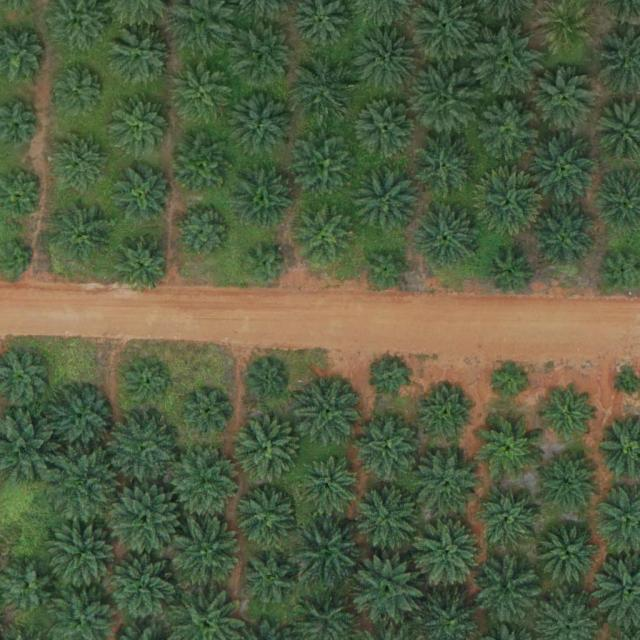Healthy: (47, 448, 125, 527), (106, 551, 184, 630), (169, 515, 247, 594), (288, 509, 366, 588), (351, 552, 429, 631), (411, 517, 489, 595), (50, 522, 121, 593), (529, 134, 600, 204), (474, 26, 544, 97), (107, 411, 177, 482), (110, 483, 180, 554), (170, 448, 241, 518), (475, 172, 545, 242), (409, 67, 479, 137), (414, 139, 477, 202), (355, 29, 418, 92), (294, 136, 357, 199), (294, 206, 357, 269), (235, 26, 298, 89), (232, 169, 295, 232), (109, 98, 172, 161), (235, 489, 298, 552), (477, 561, 540, 624), (537, 451, 600, 514), (536, 70, 598, 133), (534, 208, 596, 271), (477, 102, 540, 164), (417, 206, 479, 269), (356, 99, 418, 162), (356, 168, 418, 231), (293, 57, 355, 120), (232, 93, 294, 156), (174, 61, 236, 124), (173, 134, 235, 197), (110, 25, 172, 88), (52, 202, 115, 264), (49, 388, 112, 450), (236, 417, 298, 480), (300, 380, 362, 443), (296, 456, 358, 519), (357, 416, 419, 479), (357, 486, 419, 549), (416, 451, 478, 514), (480, 418, 542, 481), (477, 490, 539, 553), (539, 523, 601, 586), (111, 233, 173, 295), (240, 549, 302, 611), (177, 206, 232, 261), (117, 168, 172, 223), (52, 133, 107, 188), (2, 560, 57, 615), (541, 388, 596, 443), (51, 63, 105, 118), (423, 386, 477, 441), (488, 251, 535, 298)
Small: (243, 242, 290, 290), (186, 389, 233, 436), (125, 362, 172, 409), (366, 247, 413, 294), (248, 360, 288, 400), (374, 359, 413, 399), (490, 360, 529, 399)
Yellow: (539, 2, 594, 57)
